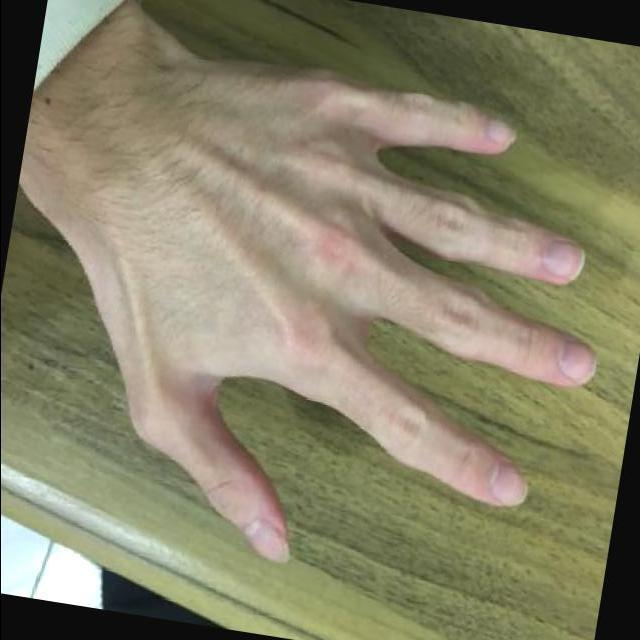hand: (47, 58, 598, 570)
